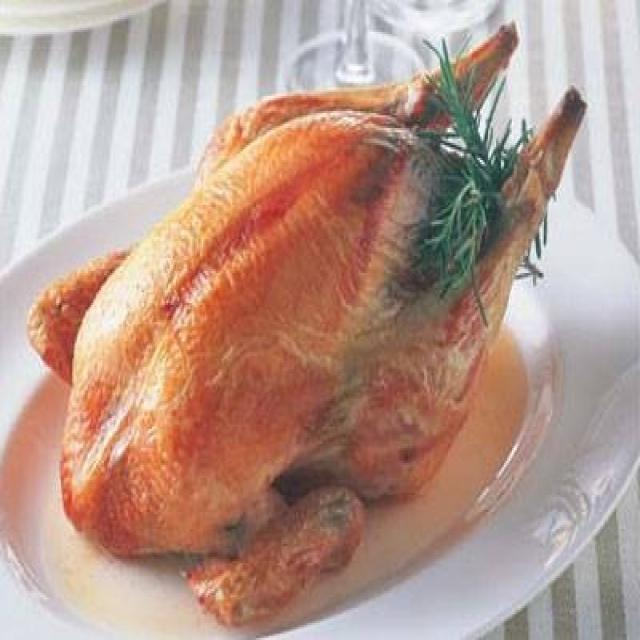Chicken roast: (31, 32, 562, 591)
